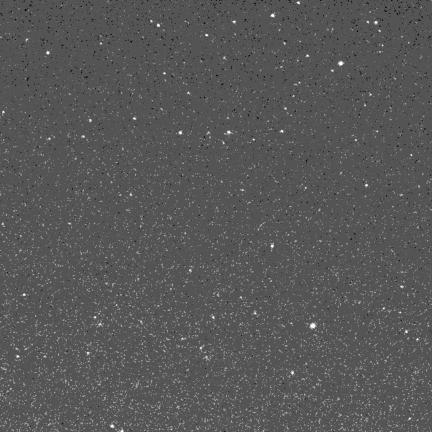blob: (310, 323, 316, 329), (338, 61, 343, 66), (133, 117, 137, 121), (89, 119, 93, 123), (46, 51, 50, 55), (110, 424, 114, 428), (365, 184, 369, 188), (280, 130, 284, 133), (157, 24, 161, 27), (130, 193, 133, 197), (81, 135, 85, 138), (212, 316, 215, 320), (291, 371, 294, 375), (271, 14, 275, 17), (233, 21, 237, 24), (374, 21, 377, 24), (179, 131, 182, 134), (206, 34, 209, 37)
